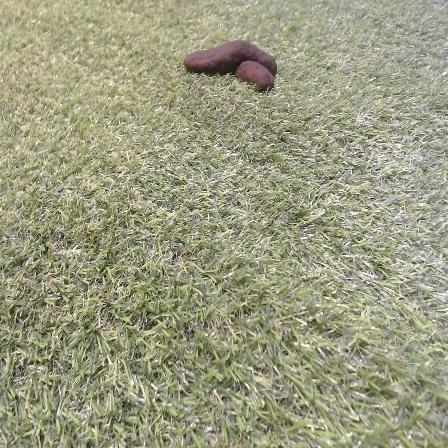dog-poop: (178, 38, 292, 90)
